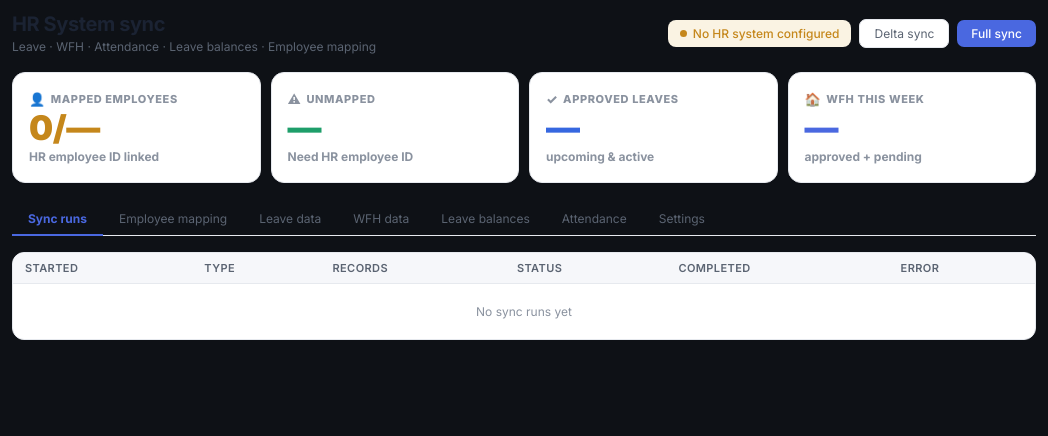
it: WFH data tab › shows wfhType as human-readable label
Click the button "WFH data". click: [381, 220]
box: 337,203 -> 425,236
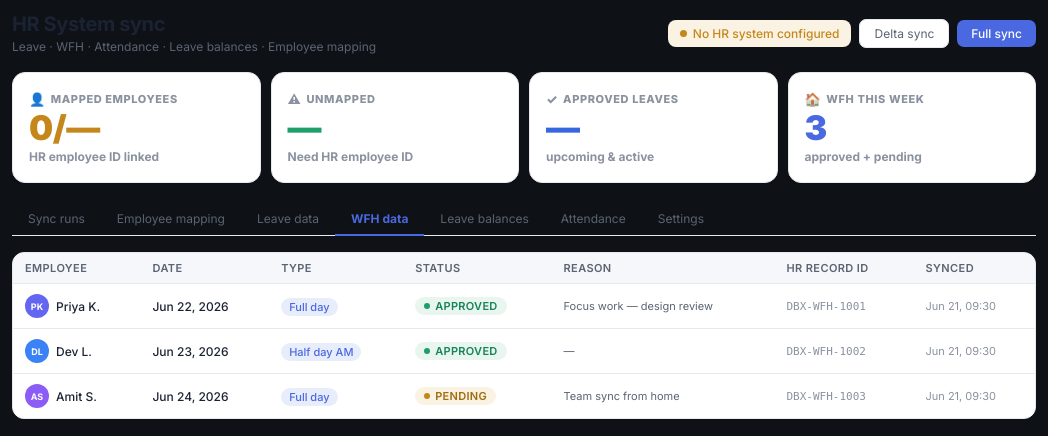
Expected: the text "Half day AM" is shown, 281,342 -> 362,360
